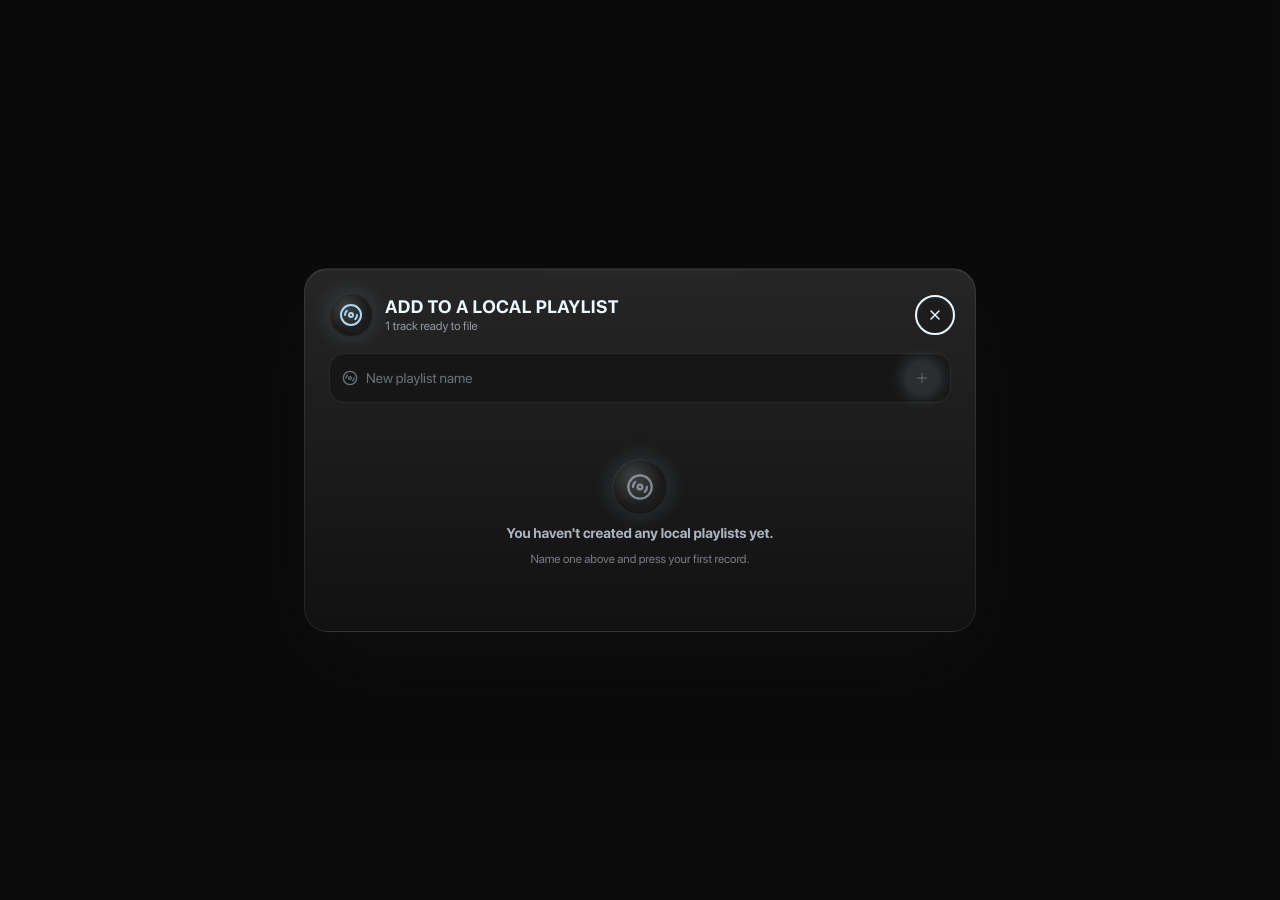
AddToPlaylistModal.svelte › new playlist creation flow: creates, adds tracks, shows in list
Type "Fresh" into the field with placeholder "New playlist name".
click(632, 378); type("Fresh")  # box [366,368,898,388]
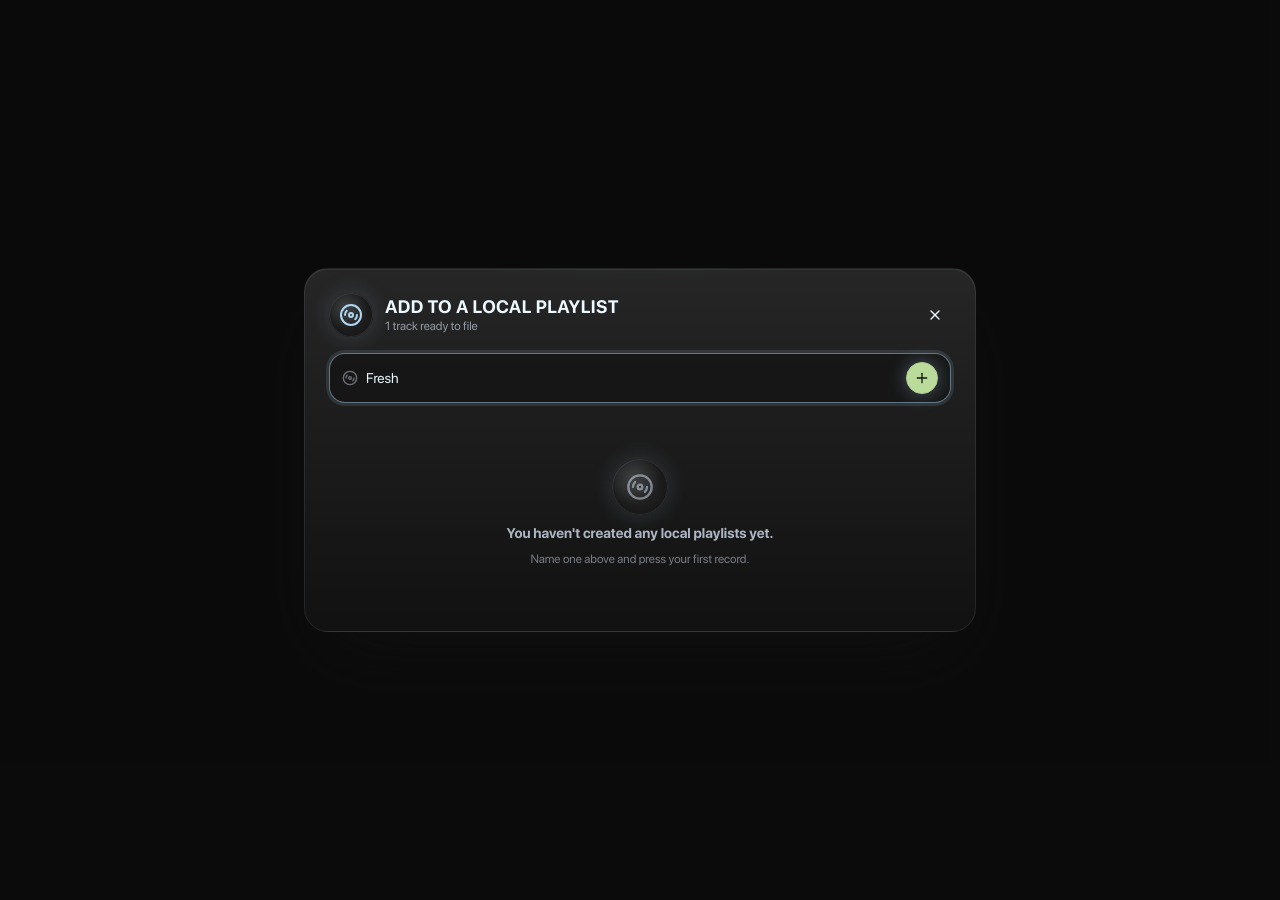
Click the button named "Create playlist".
click(922, 378)  # box [906,362,938,394]
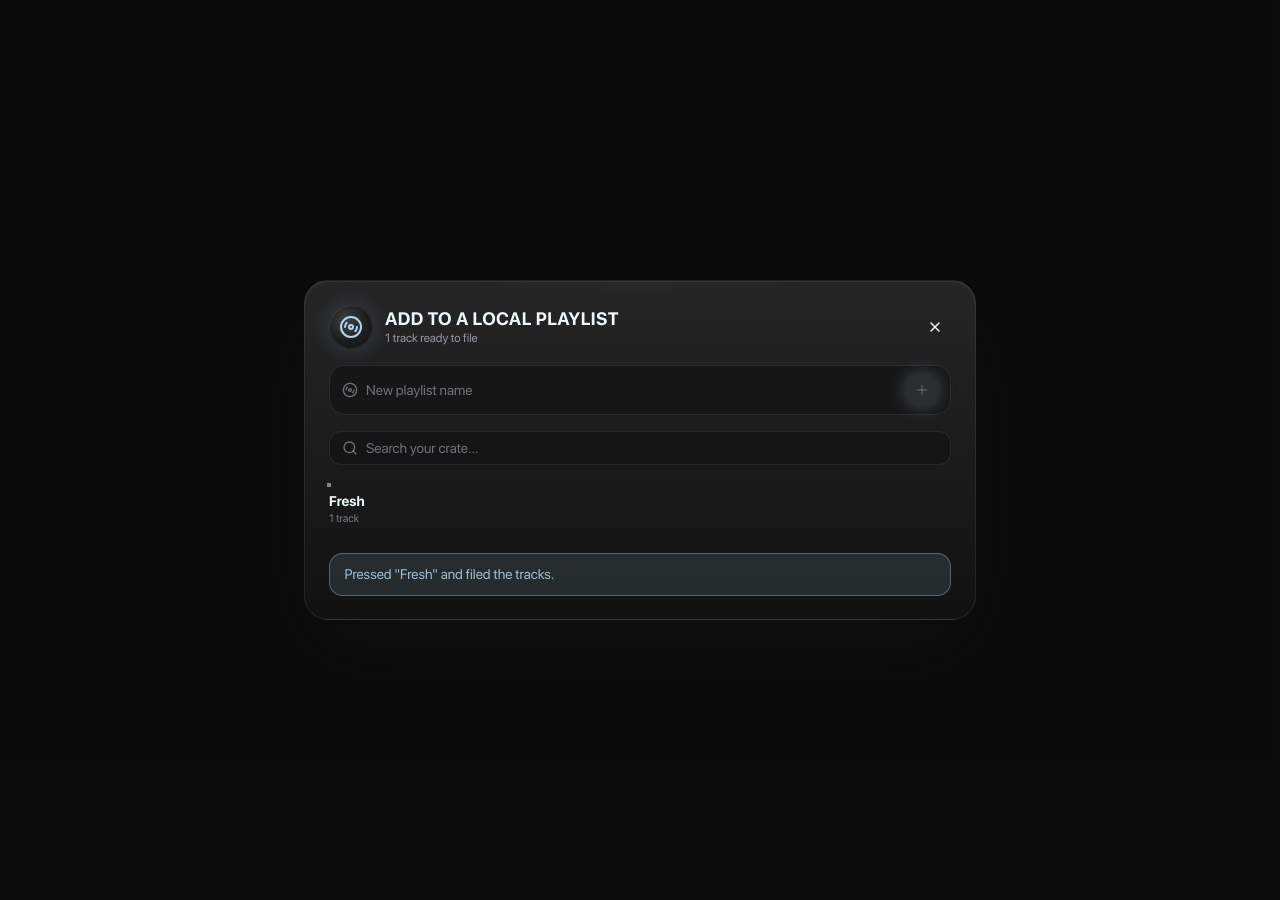
expect the text "Fresh" is shown: met, box [329,491,365,511]
